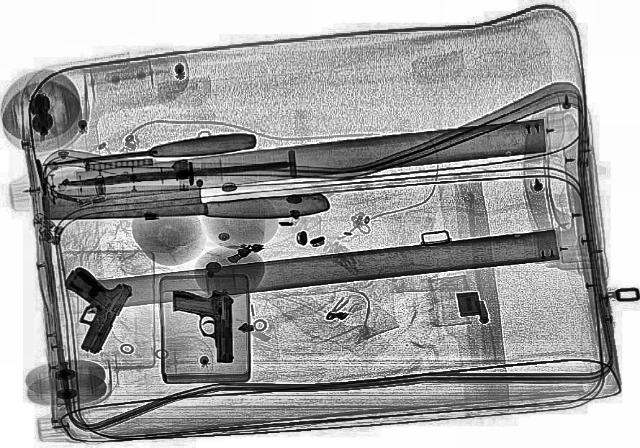Gun: (35, 266, 139, 354), (172, 290, 236, 364)
Knife: (41, 182, 329, 222), (40, 130, 256, 173), (59, 158, 294, 188)
